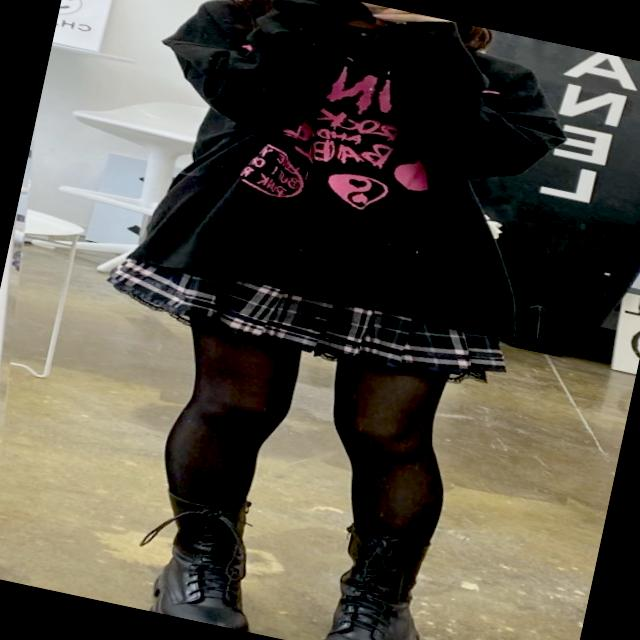mtm: (112, 0, 584, 348)
skirt: (102, 249, 514, 396)
